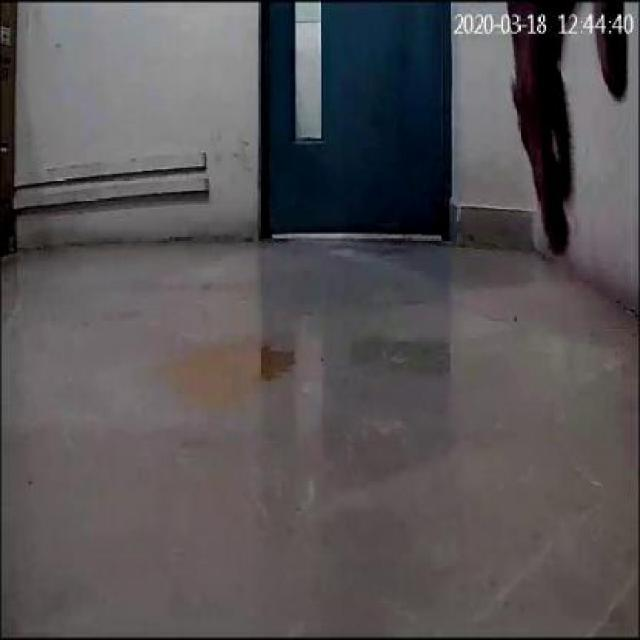spill: (174, 342, 300, 404)
